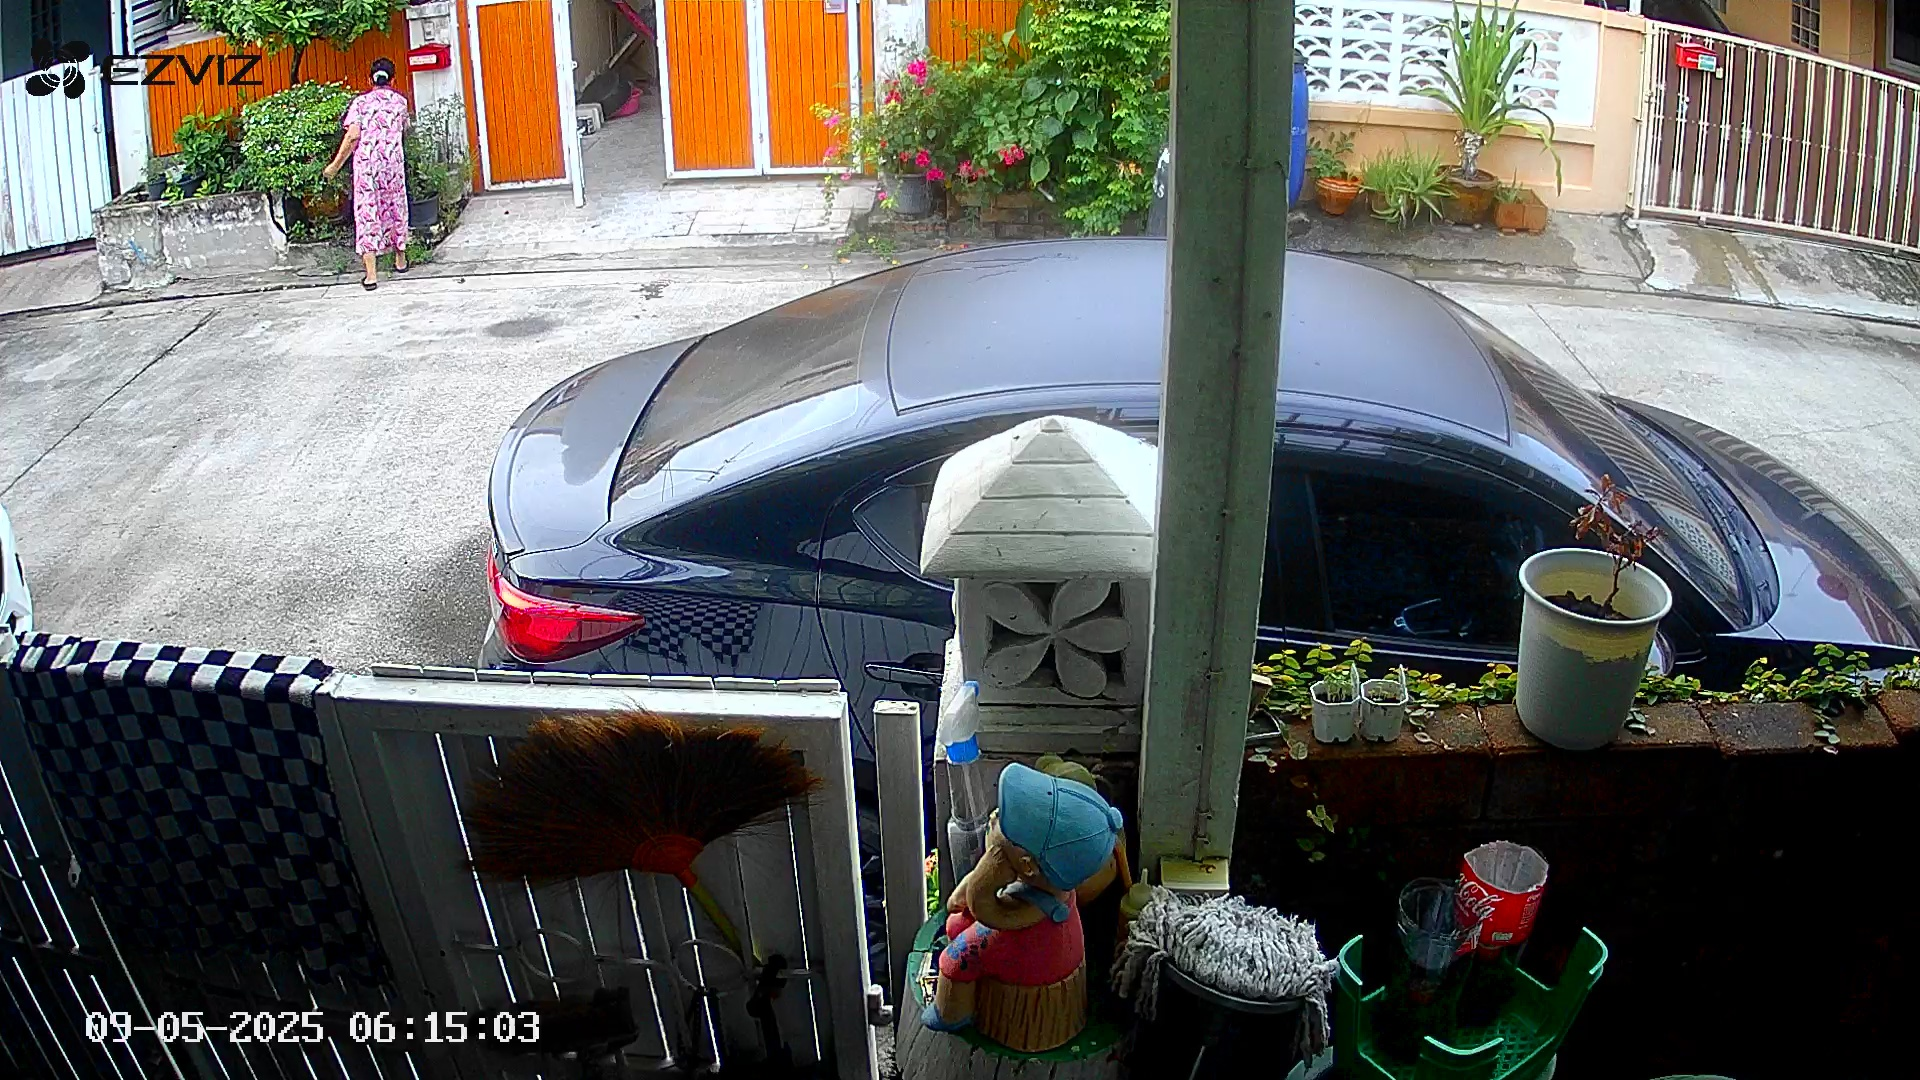mycar: (451, 223, 1920, 977)
person: (306, 46, 432, 308)
